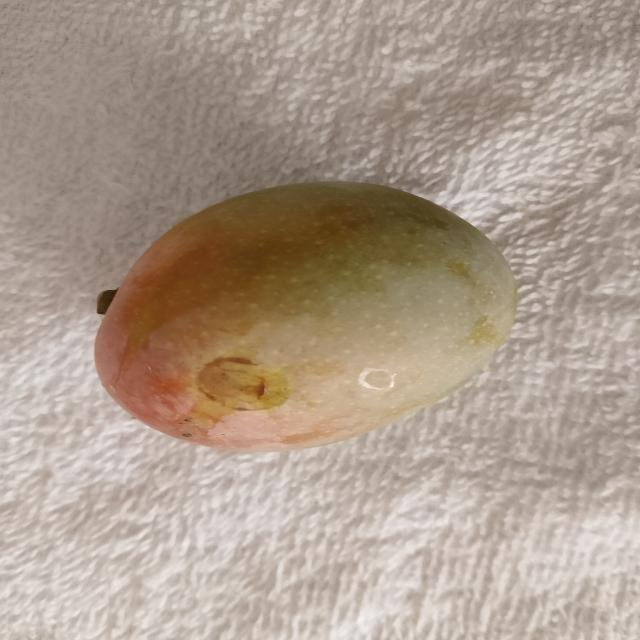mango: (95, 183, 516, 451)
